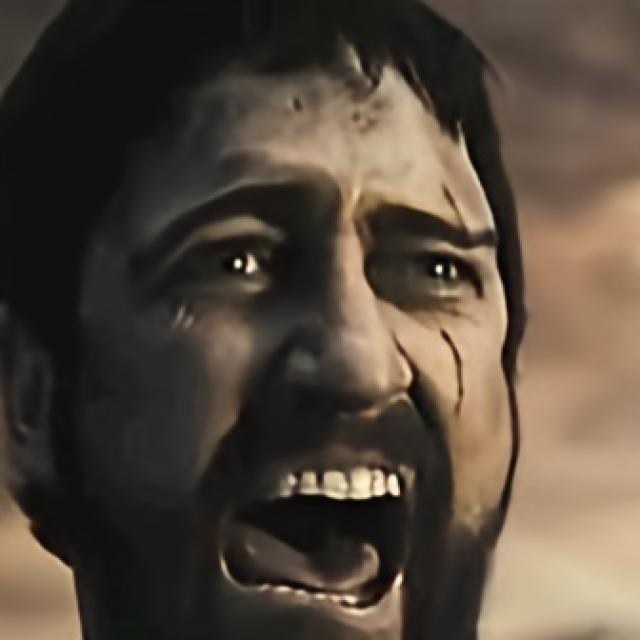fear: (55, 40, 518, 640)
